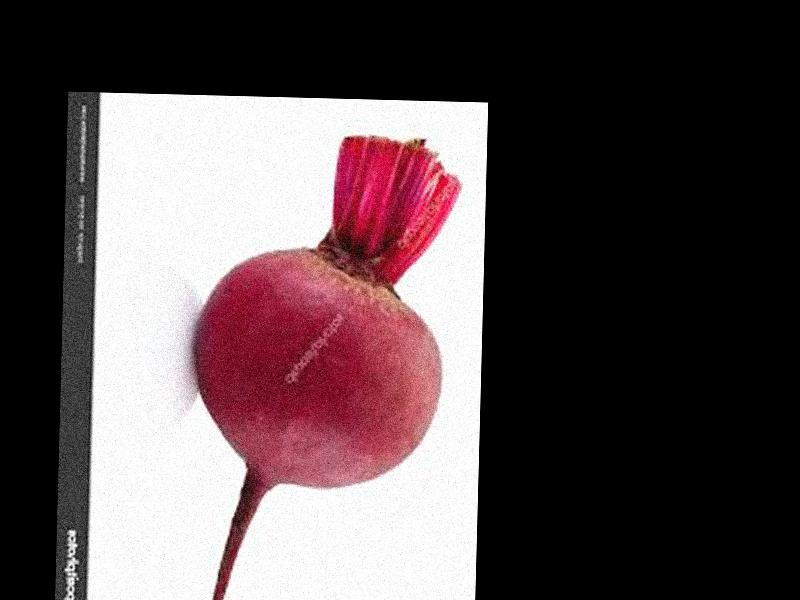Beet: (187, 130, 459, 600)
